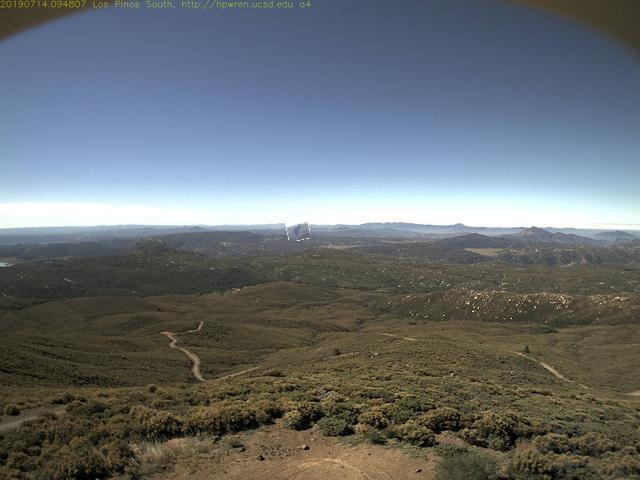smoke: (287, 218, 311, 242)
